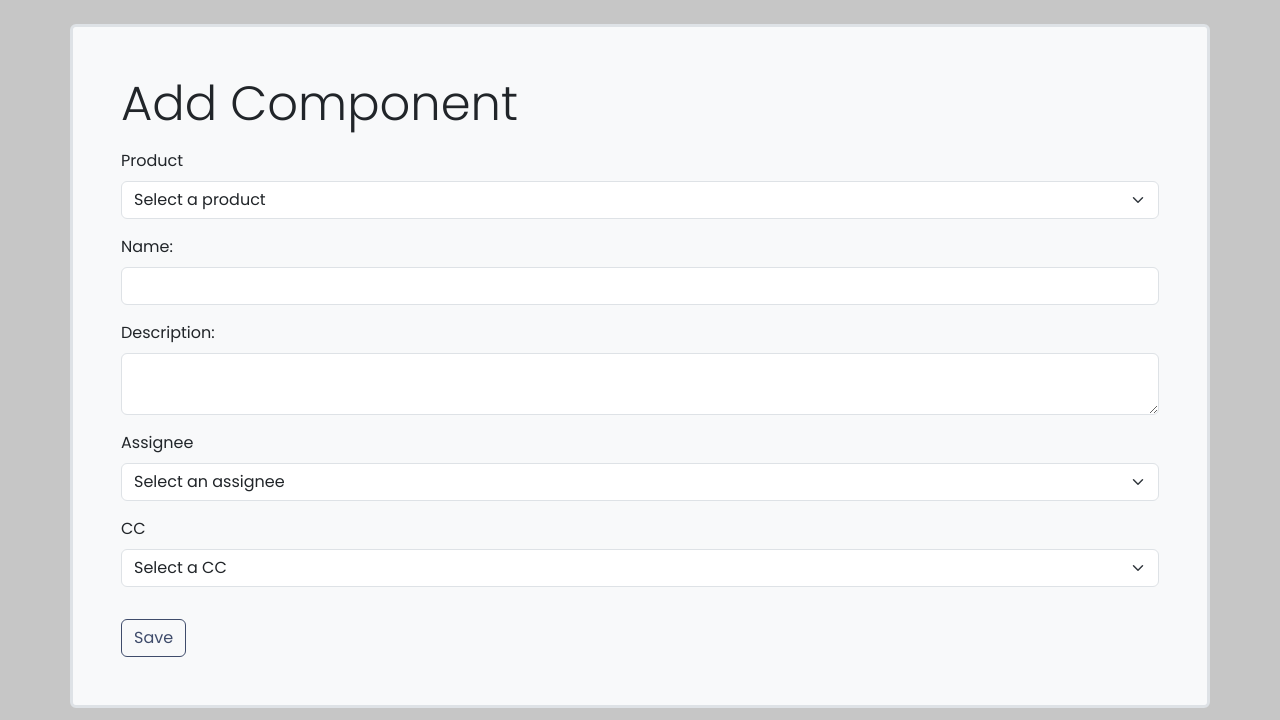
Test case: AddEditComponent › shows error alert when create fails
This screenshot has width=1280, height=720.
Type "Bad" into the field labelled "Name:" at [640, 286], box [121, 267, 1159, 305]
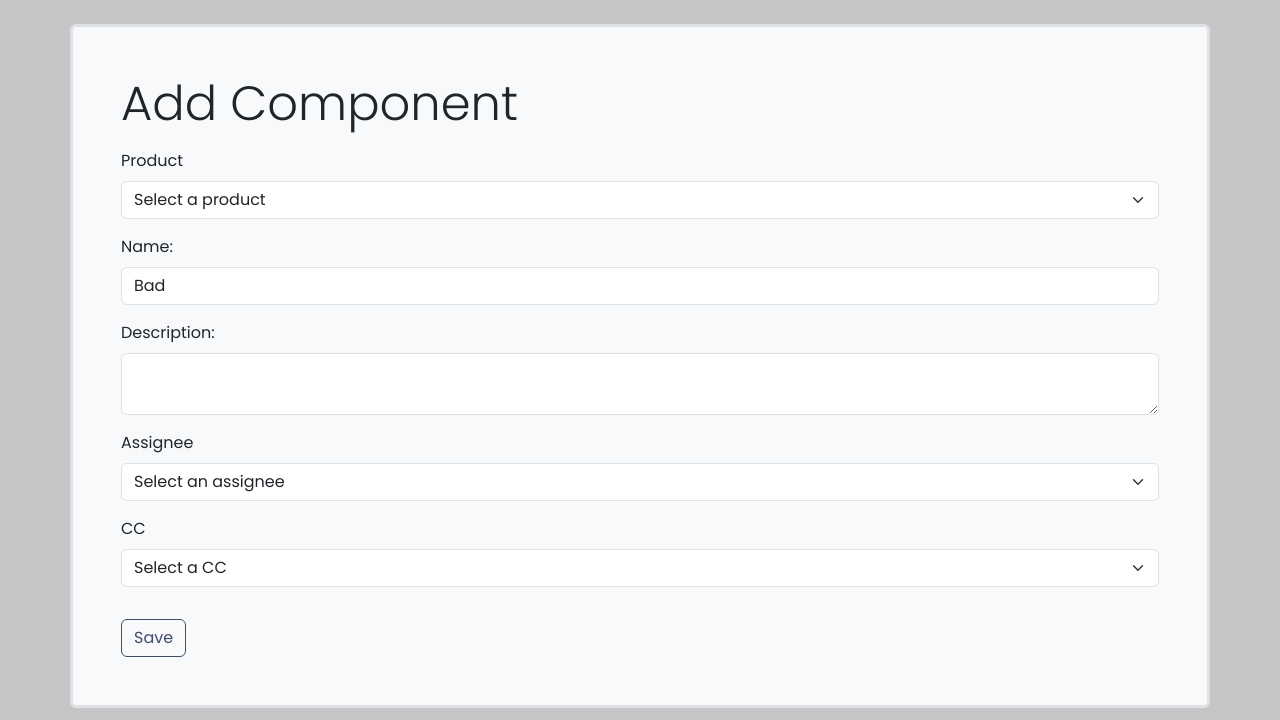
Click the button "Save" at [154, 638], box [121, 619, 186, 657]
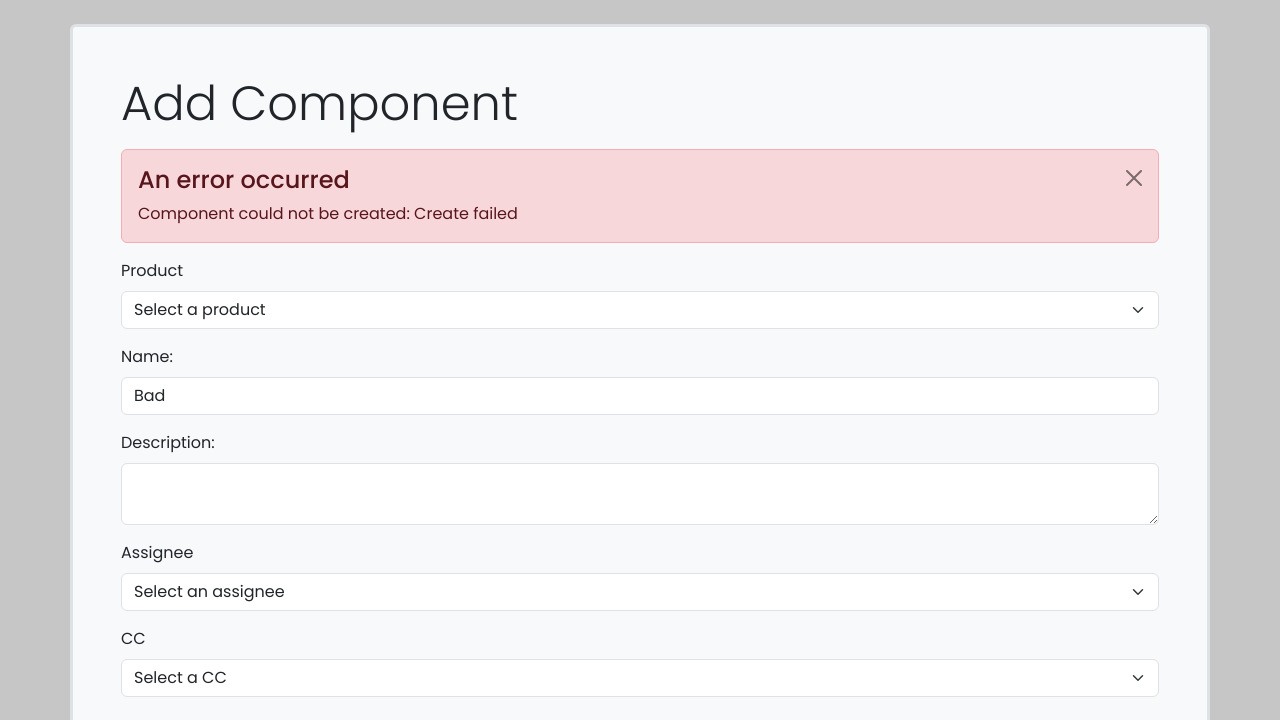
Expected: the text "An error occurred Component could not be created: Create failed" is shown, [121, 149, 1159, 243]
